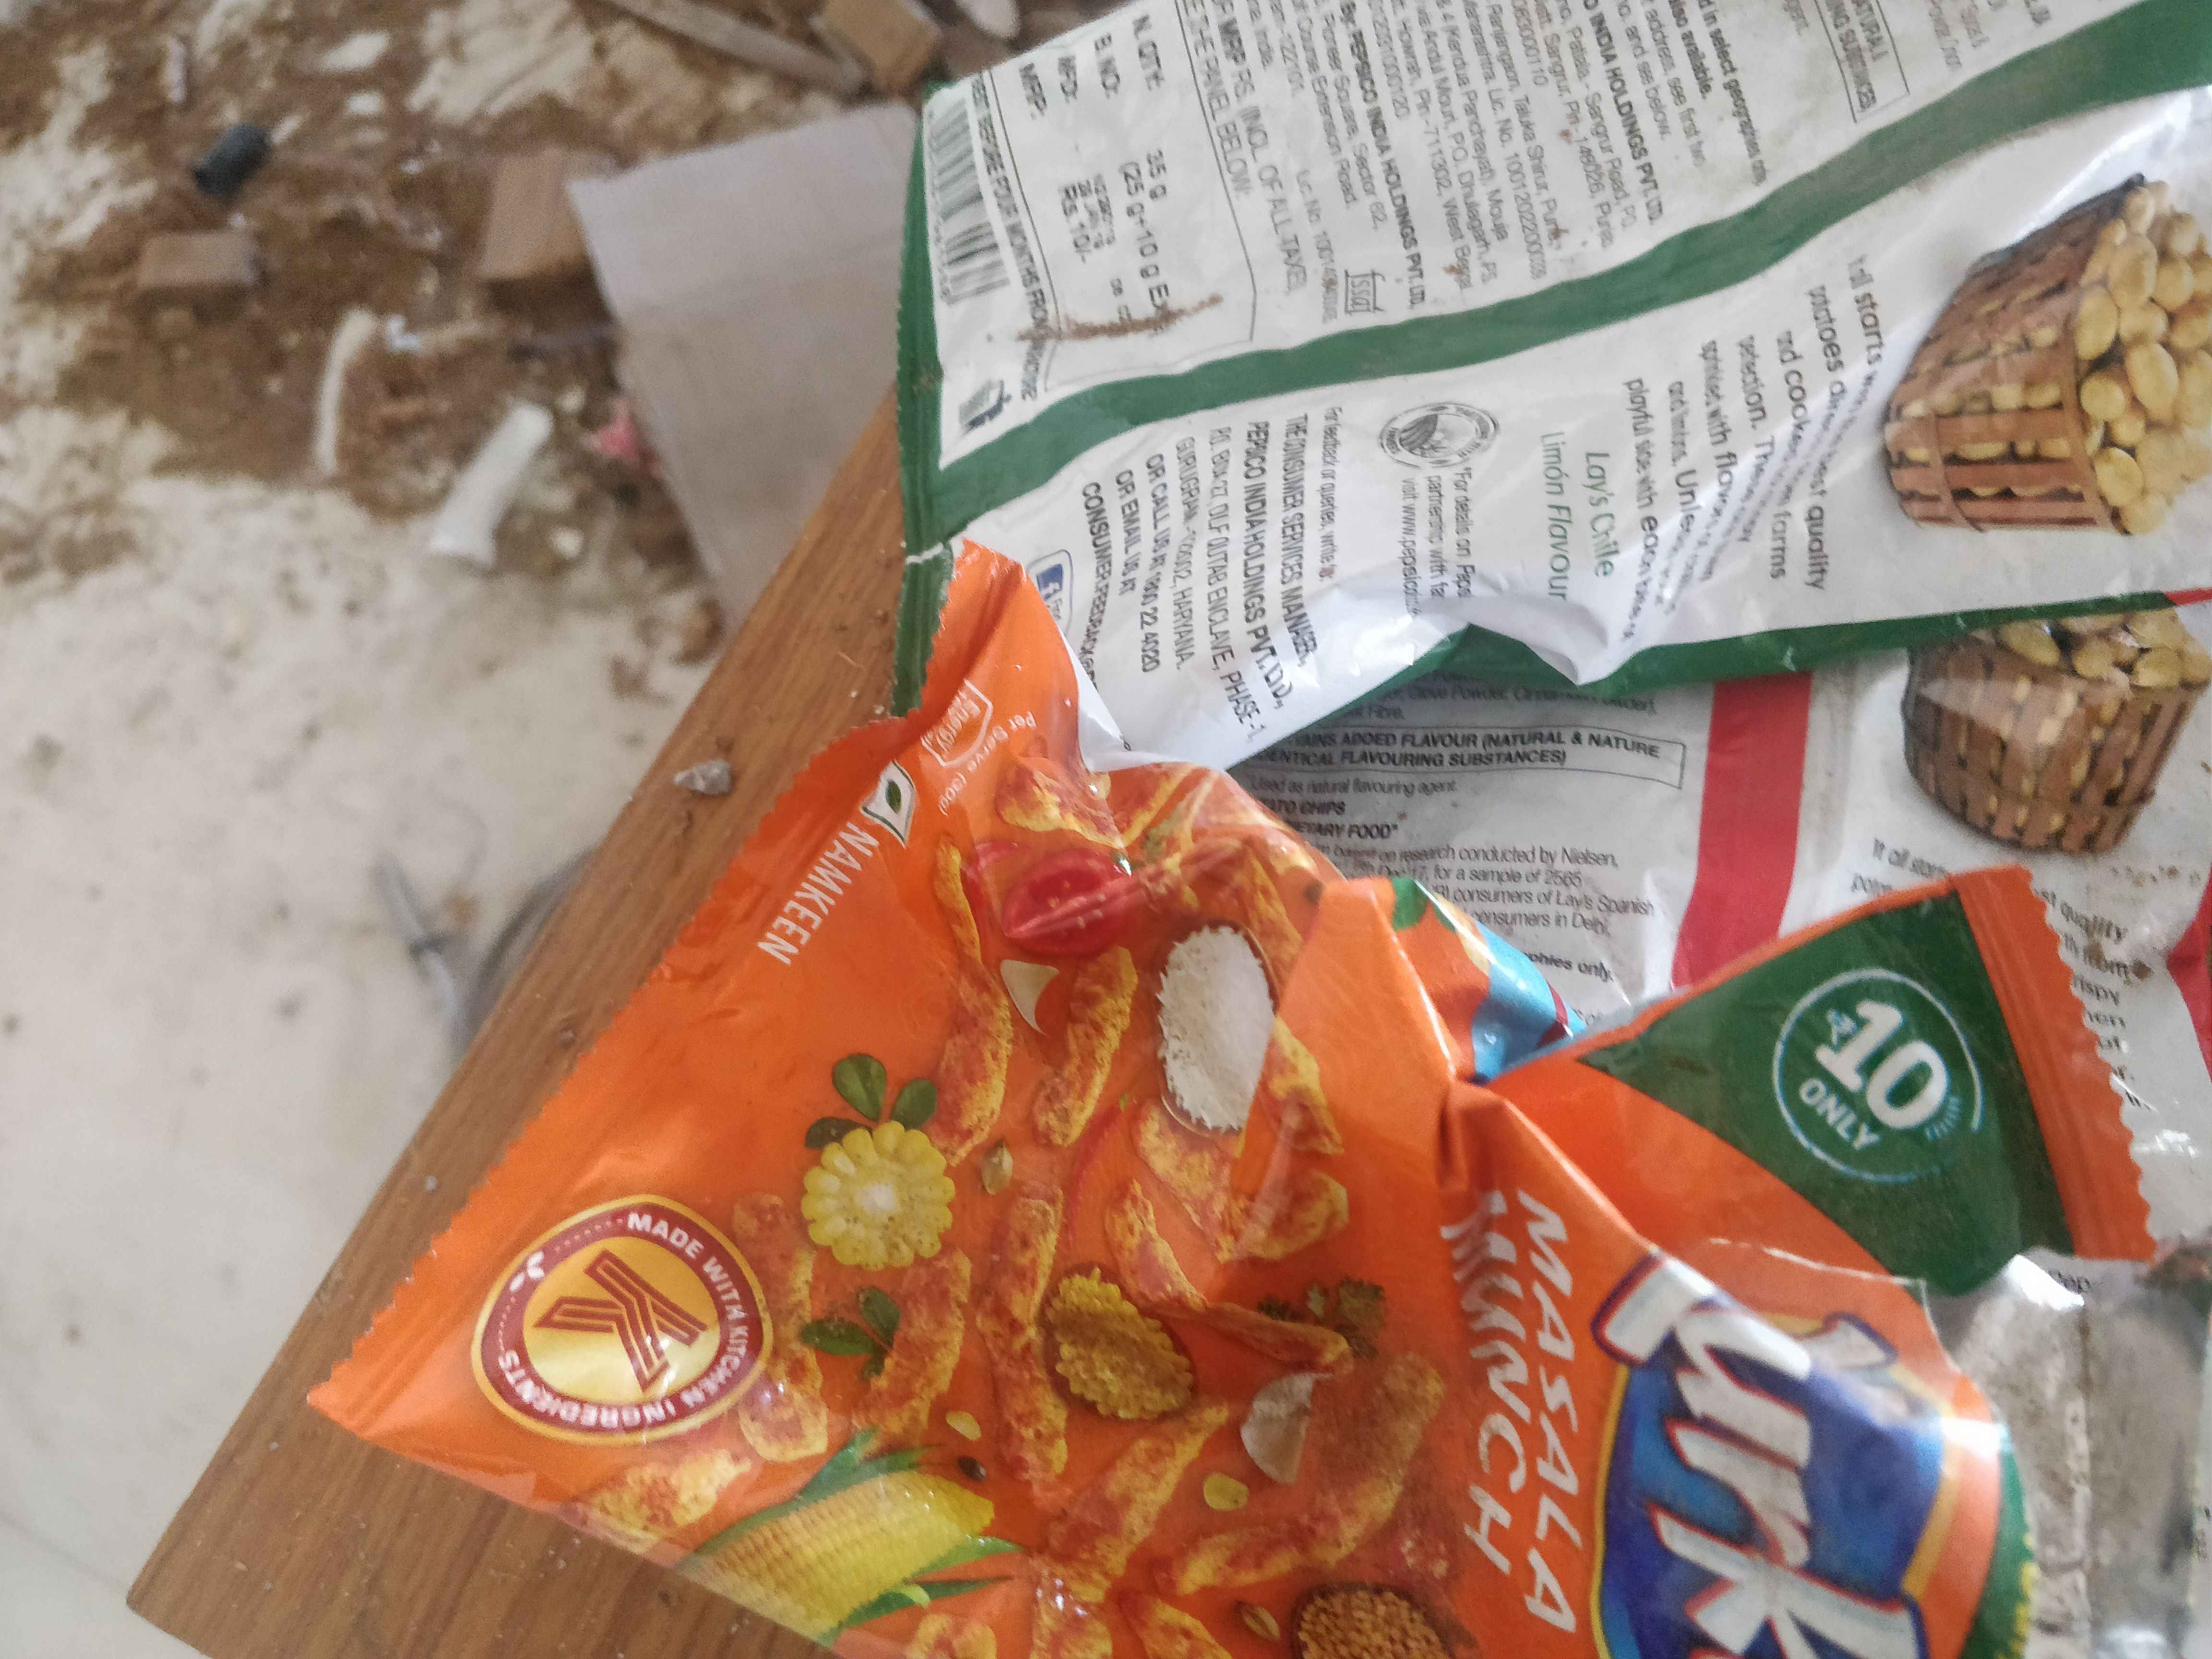kurkure: (1594, 1227, 1952, 1659)
